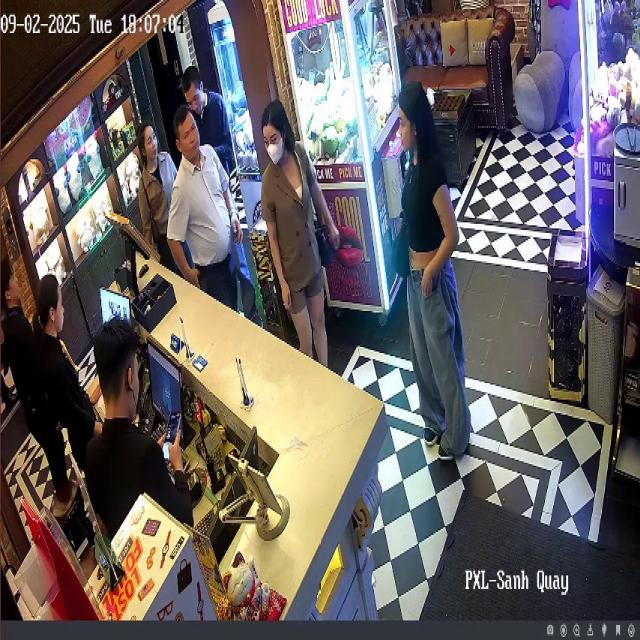khach: (390, 72, 475, 476), (262, 102, 344, 372), (168, 109, 245, 337), (181, 54, 239, 219), (132, 106, 186, 274)
nhan vien: (85, 308, 210, 572), (30, 270, 104, 500), (1, 238, 39, 442)
